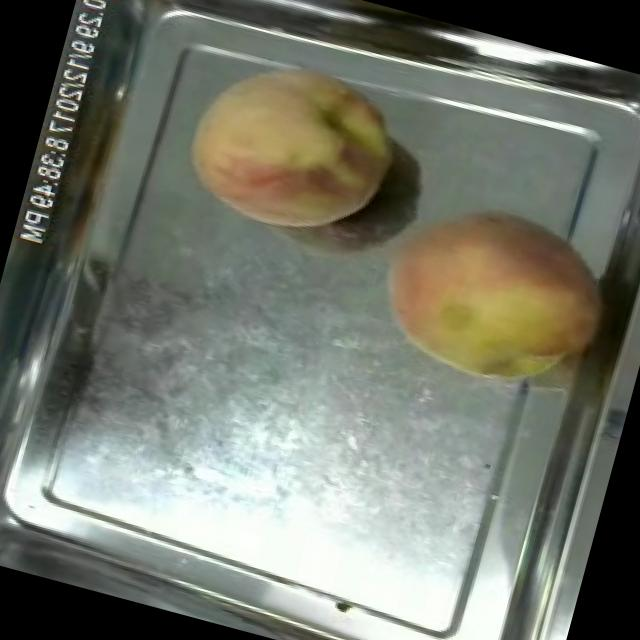Fruit: (354, 180, 622, 414), (163, 34, 420, 264)
